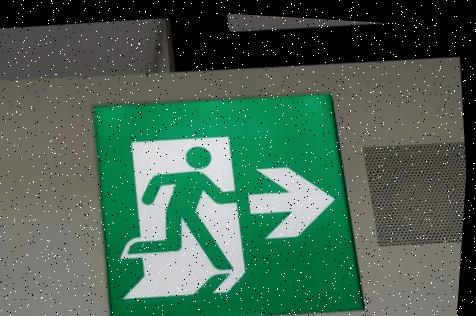emergency_exit: (91, 93, 366, 315)
